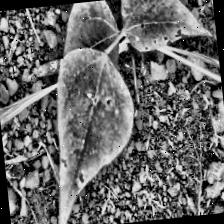ALS: (32, 43, 141, 218), (120, 0, 206, 71)
